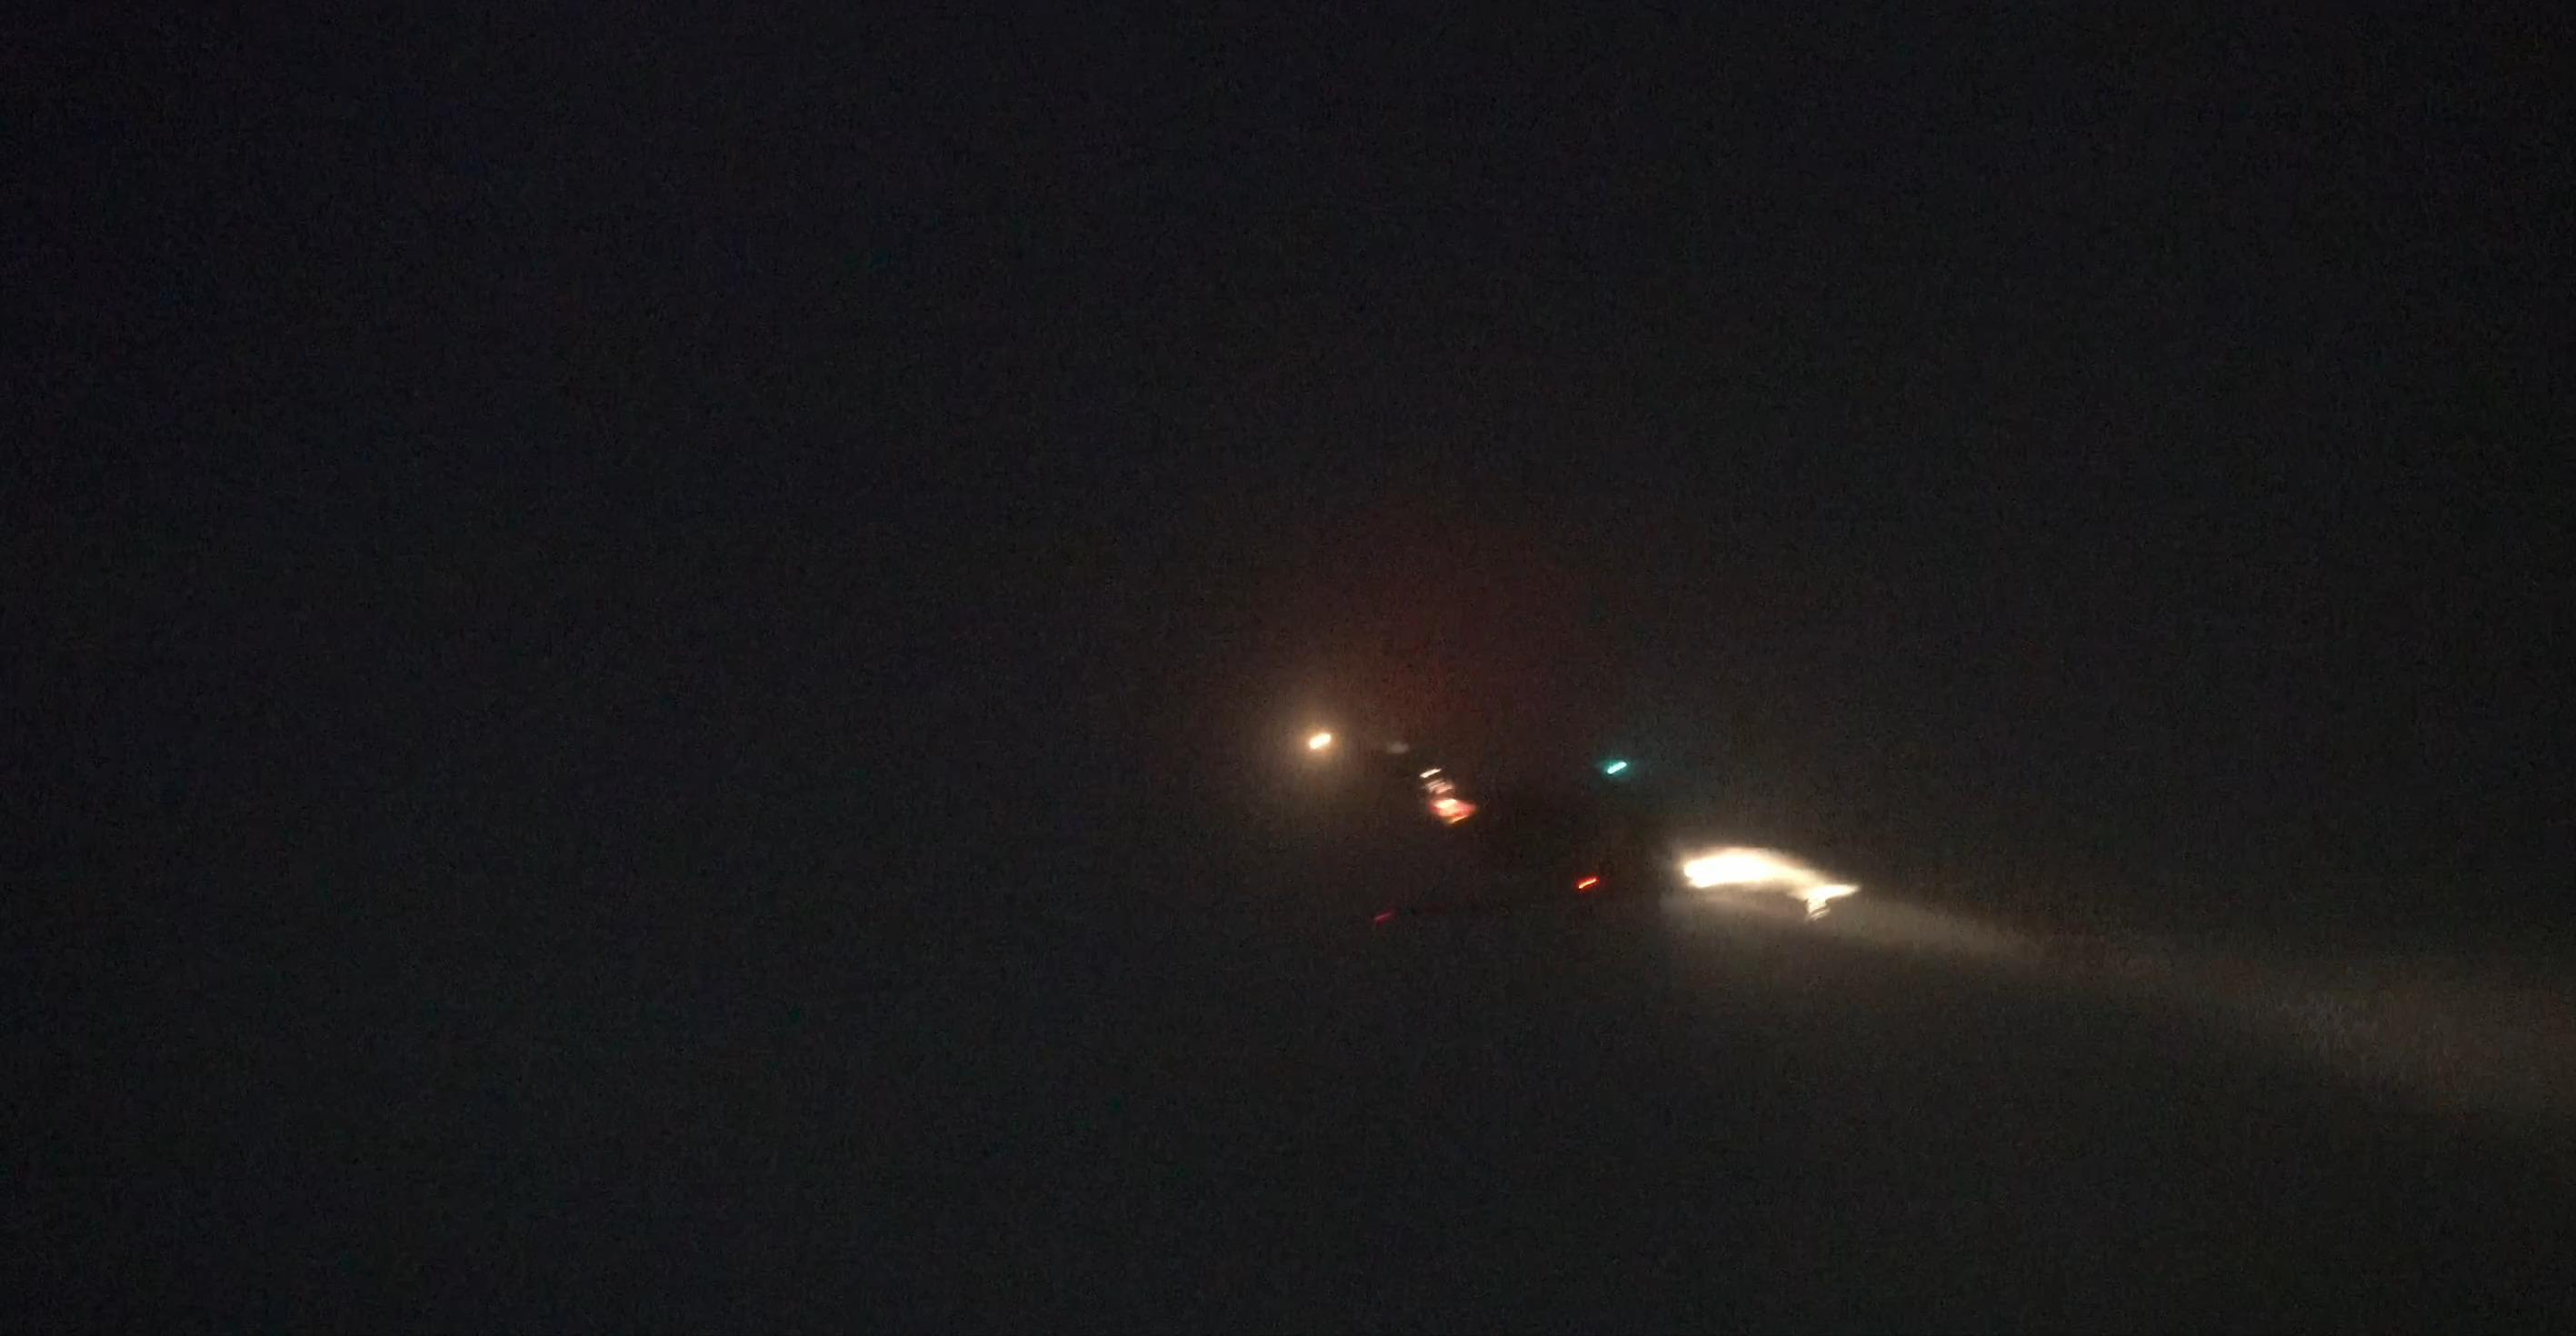Plane: (1297, 728, 1889, 915)
